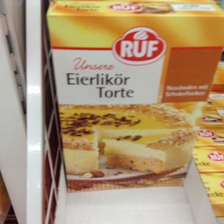cake: (45, 2, 222, 190)
